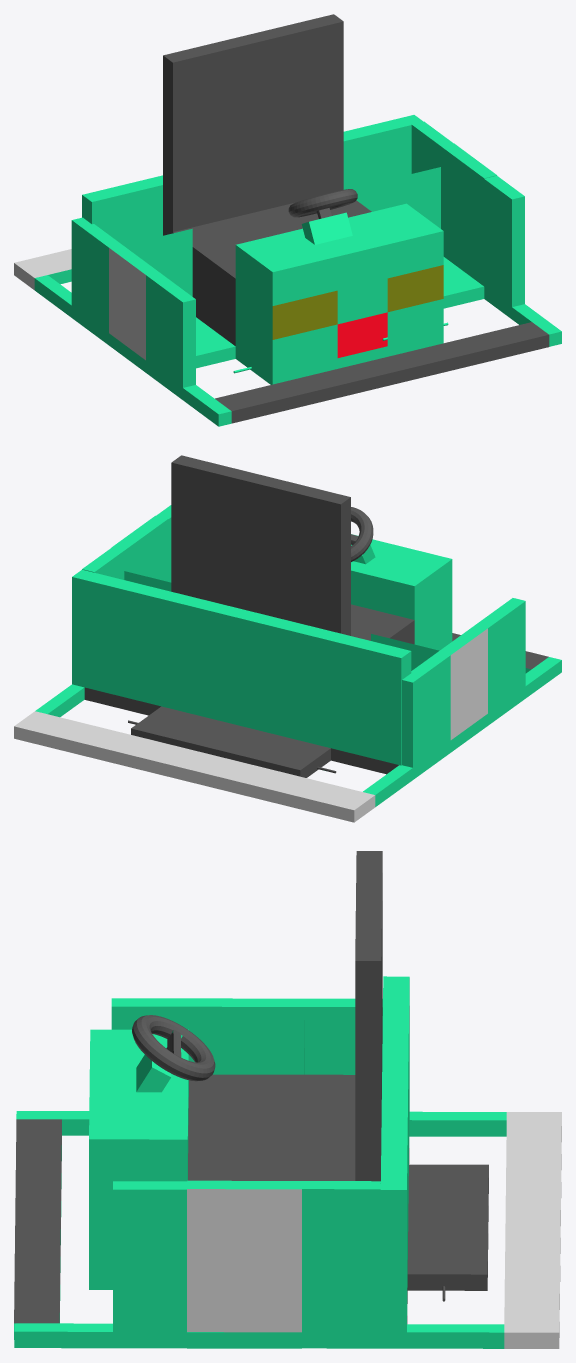
Rendered from carro2.fbx.
The picture shows the model from 3 angles, top to bottom: view 1: azimuth 30°, elevation 25°; view 2: azimuth 150°, elevation 25°; view 3: azimuth 270°, elevation 25°; orthographic projection. The views are drawn at different scales.
Parts seen in each view (by area): view 1: Cube; view 2: Cube; view 3: Cube.
Boxes of the visible parts, x1,y1,x2,y2 form: Cube: (14,14,561,426); Cube: (14,455,561,822); Cube: (14,851,561,1348).
Size of the model in its own units: 1062 by 737 by 1109.
